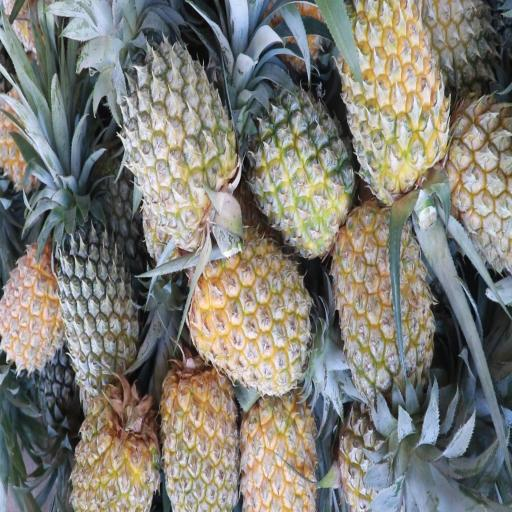------------------------------: (124, 39, 233, 236), (256, 84, 353, 248), (446, 94, 512, 249), (338, 403, 425, 512)
Pineapple - v8 v1: (342, 0, 450, 182), (333, 210, 436, 398), (192, 223, 312, 383), (73, 383, 160, 512), (163, 373, 238, 512), (0, 234, 73, 368), (239, 395, 318, 512)
